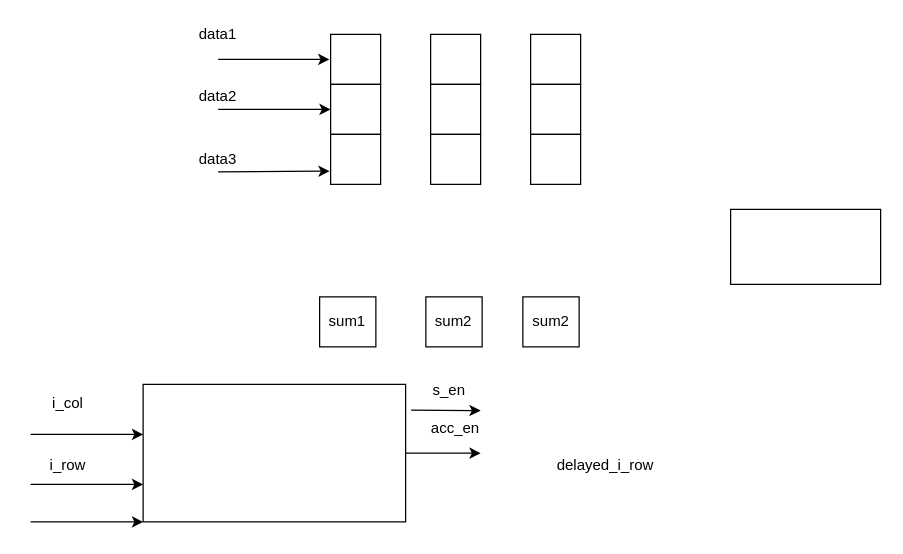
Some shapes in this 903 by 554 pixel diagram are drawn without their labels. The shapes that lost their labels are listed below. From the top down, each one's centre as x and y in pixels, then its label:
At (x=805, y=246): "Acc".
At (x=274, y=452): "Controller".
